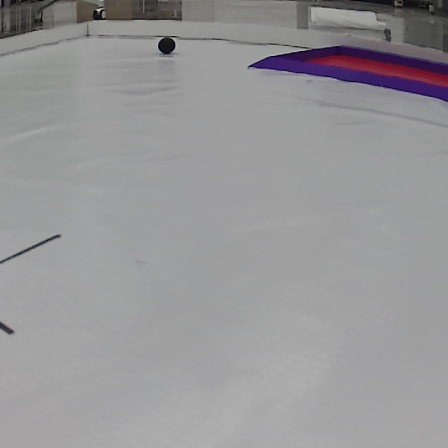black: (157, 35, 174, 54)
red_aim: (240, 39, 448, 111)
